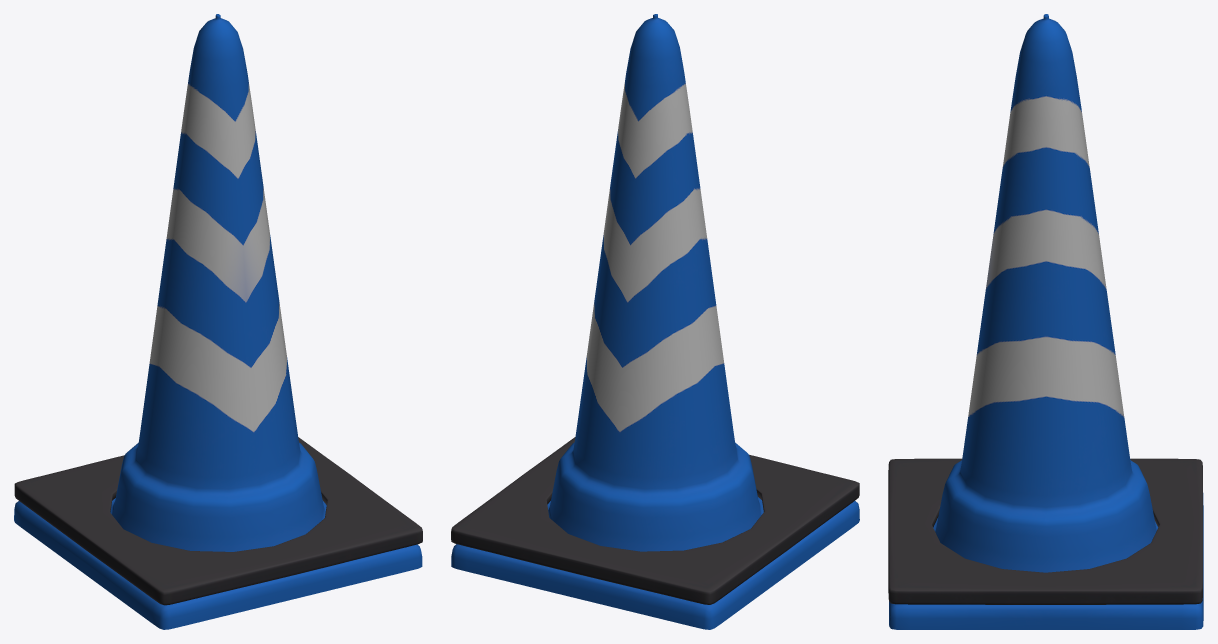
File: ColorCone_Scotch_Blue.fbx
3 views of the same model, side by side, from view 1: azimuth 30°, elevation 25°; view 2: azimuth 150°, elevation 25°; view 3: azimuth 270°, elevation 25° (orthographic). The views are drawn at different scales.
Parts seen in each view (by area): view 1: ColorCone_Scotch_Blue; view 2: ColorCone_Scotch_Blue; view 3: ColorCone_Scotch_Blue.
Part boxes in pixels (x1=…): ColorCone_Scotch_Blue: x1=14, y1=14, x2=422, y2=629; ColorCone_Scotch_Blue: x1=451, y1=14, x2=859, y2=629; ColorCone_Scotch_Blue: x1=888, y1=14, x2=1203, y2=629.
Size of the model in its own units: 38.04 by 38.06 by 73.14.
1 material, 1 textured.
